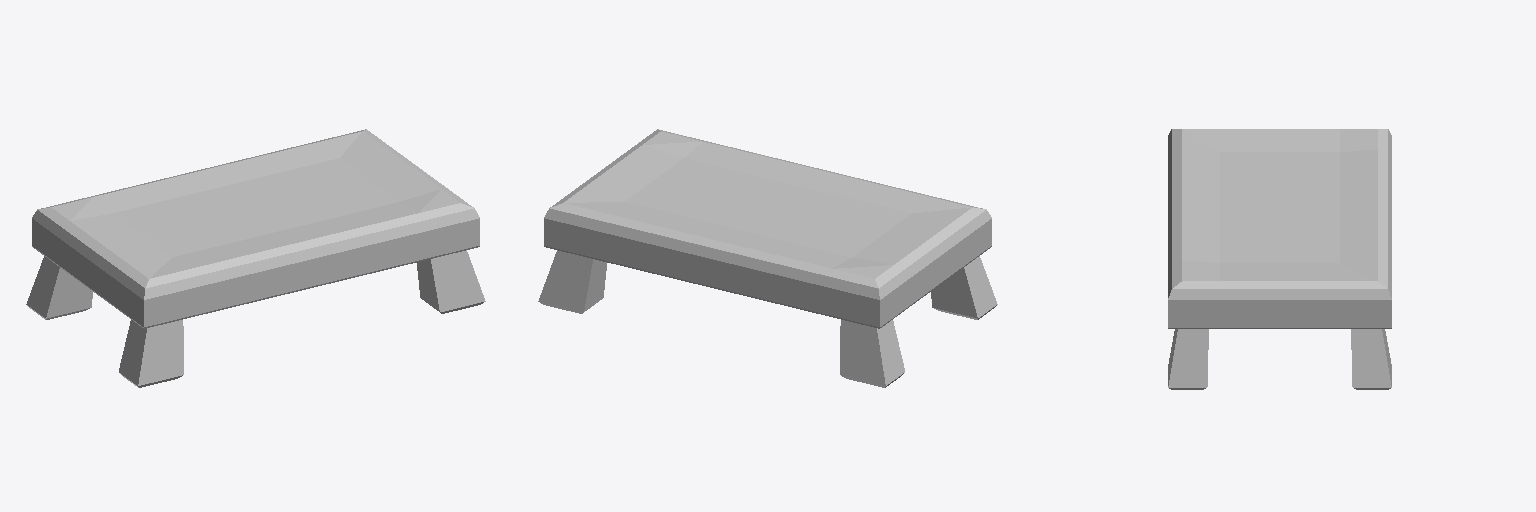
The picture shows the model from 3 angles: view 1: azimuth 30°, elevation 25°; view 2: azimuth 150°, elevation 25°; view 3: azimuth 270°, elevation 25°; orthographic projection.
Visible parts, largest first — view 1: 立方体; view 2: 立方体; view 3: 立方体.
Part boxes in pixels (bbox=[...]): 立方体: bbox=[26, 129, 485, 387]; 立方体: bbox=[538, 129, 997, 387]; 立方体: bbox=[1168, 129, 1391, 389].
Bounding box in the file's own units: 1.46 × 0.4086 × 0.8173.